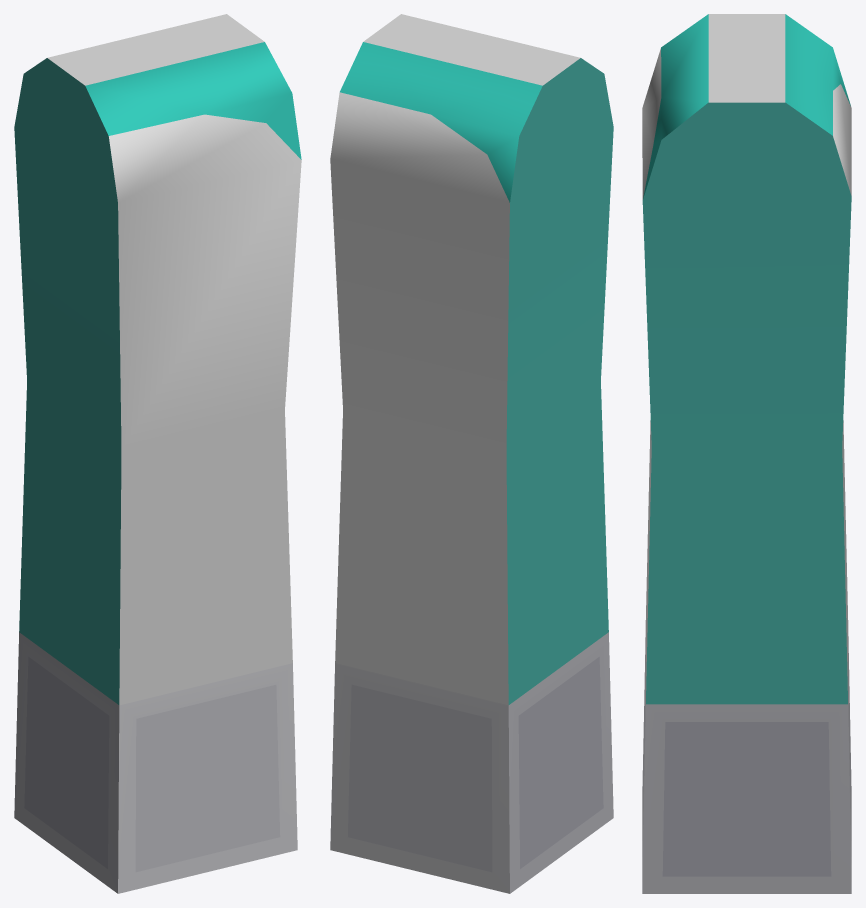
The model's file is PipeFencePost_4.glb.
3 views of the same model, side by side, from view 1: azimuth 30°, elevation 25°; view 2: azimuth 150°, elevation 25°; view 3: azimuth 270°, elevation 25° (orthographic).
Parts seen in each view (by area): view 1: PipeFencePost; view 2: PipeFencePost; view 3: PipeFencePost.
Part boxes in pixels (<box>): PipeFencePost: <box>14,14,301,893</box>; PipeFencePost: <box>330,14,613,893</box>; PipeFencePost: <box>642,14,851,893</box>.
Bounding box in the file's own units: 0.1573 × 0.6414 × 0.1538.
